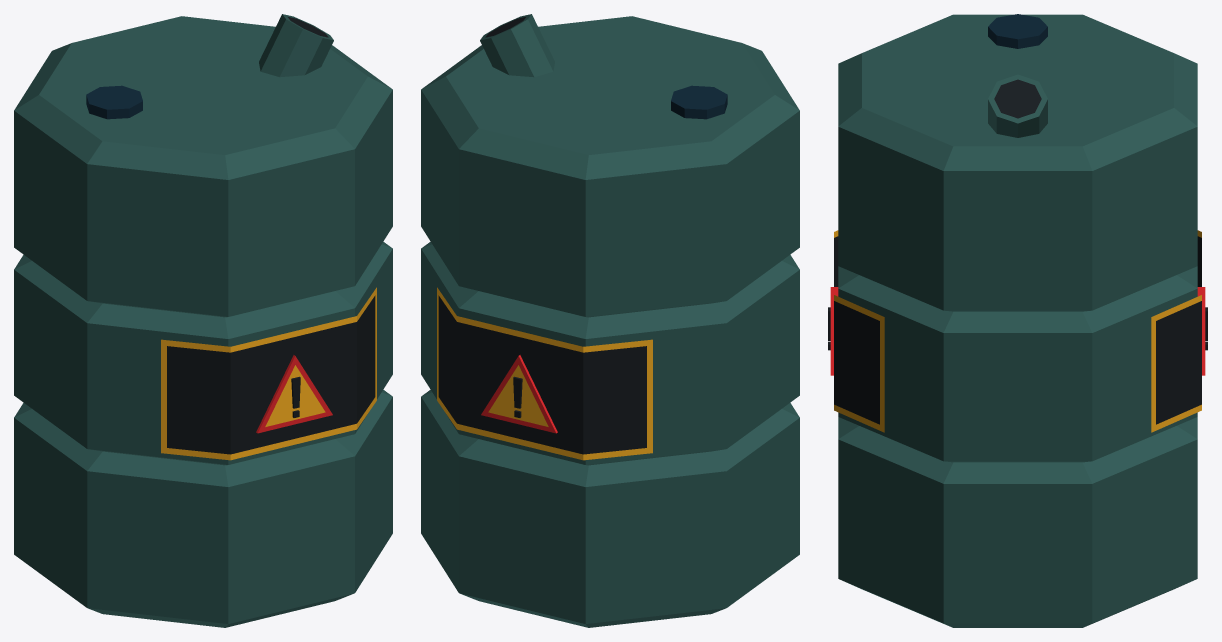
The model's file is oilDrumB.FBX.
The picture shows the model from 3 angles, left to right: view 1: azimuth 30°, elevation 25°; view 2: azimuth 150°, elevation 25°; view 3: azimuth 270°, elevation 25°; orthographic projection.
Visible parts, largest first — view 1: oilDrumB; view 2: oilDrumB; view 3: oilDrumB.
Part boxes in pixels (bbox=[...]): oilDrumB: bbox=[14, 14, 392, 627]; oilDrumB: bbox=[421, 14, 799, 627]; oilDrumB: bbox=[828, 14, 1207, 627].
Bounding box in the file's own units: 3.19 × 5.18 × 3.37.
